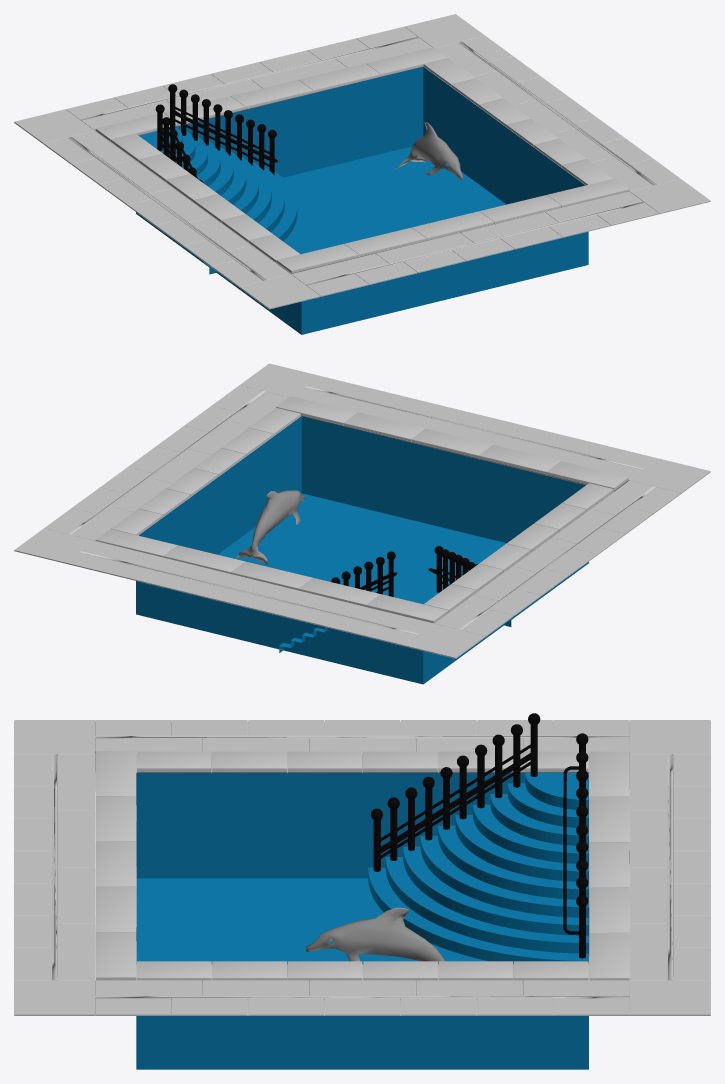
File: dolphin.obj
3 renders of one model, top to bottom at view 1: azimuth 30°, elevation 25°; view 2: azimuth 150°, elevation 25°; view 3: azimuth 270°, elevation 25°, orthographic. The views are drawn at different scales.
Parts seen in each view (by area): view 1: Box362_Untitled.002, Plane036_Untitled.003, Plane039_Untitled.005, Circle063_Untitled.001, Object001_Untitled, body.001_Untitled.012; view 2: Box362_Untitled.002, Plane036_Untitled.003, Plane039_Untitled.005, Object001_Untitled, body.001_Untitled.012, Circle063_Untitled.001; view 3: Plane036_Untitled.003, Box362_Untitled.002, Plane039_Untitled.005, Circle063_Untitled.001, Object001_Untitled, body.001_Untitled.012.
Part boxes in pixels (box(x1,y1,x2,y2)): Box362_Untitled.002: box(136, 66, 588, 334); Plane036_Untitled.003: box(14, 14, 710, 309); Plane039_Untitled.005: box(95, 47, 629, 273); Circle063_Untitled.001: box(139, 127, 297, 274); Object001_Untitled: box(155, 84, 277, 182); body.001_Untitled.012: box(394, 121, 462, 179); Box362_Untitled.002: box(136, 416, 588, 684); Plane036_Untitled.003: box(14, 363, 710, 658); Plane039_Untitled.005: box(95, 396, 628, 623); Object001_Untitled: box(331, 546, 477, 596); body.001_Untitled.012: box(236, 490, 304, 565); Circle063_Untitled.001: box(279, 587, 511, 652); Plane036_Untitled.003: box(14, 720, 710, 1015); Box362_Untitled.002: box(136, 773, 588, 1069); Plane039_Untitled.005: box(95, 750, 629, 981); Circle063_Untitled.001: box(368, 772, 588, 964); Object001_Untitled: box(371, 713, 588, 958); body.001_Untitled.012: box(305, 907, 444, 964).
Bounding box in the file's own units: 12.03 × 3.18 × 12.
